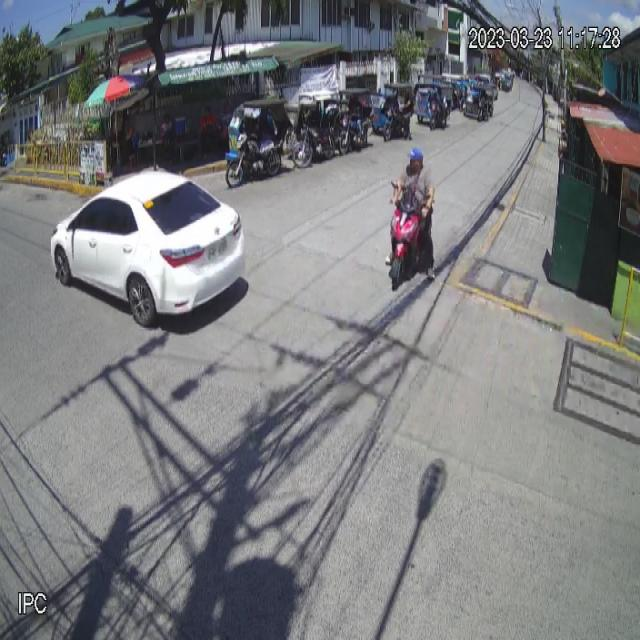Car: (50, 167, 246, 328)
Motorcycle: (387, 174, 436, 288)
